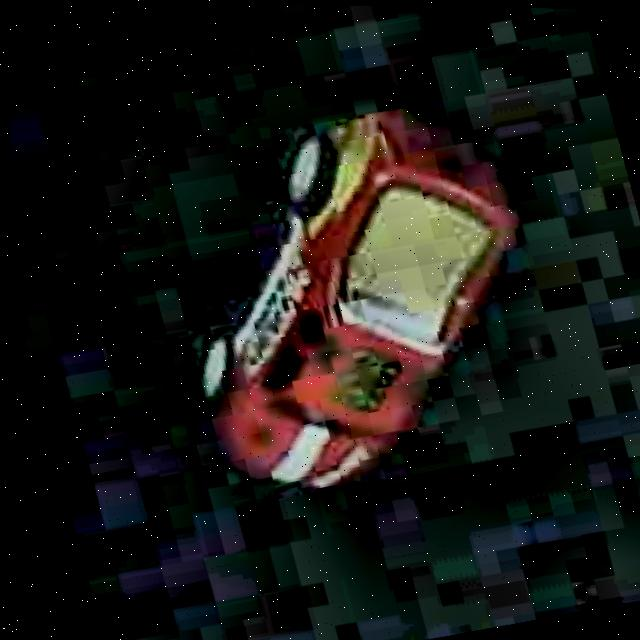car: (130, 84, 583, 519)
